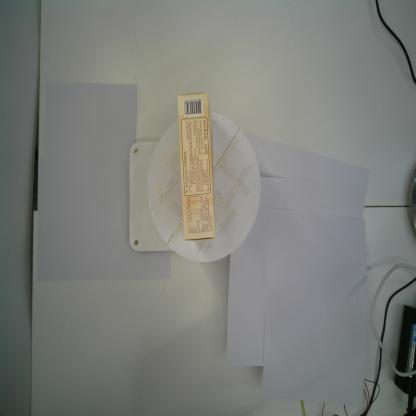Dessert: (176, 91, 216, 241)
